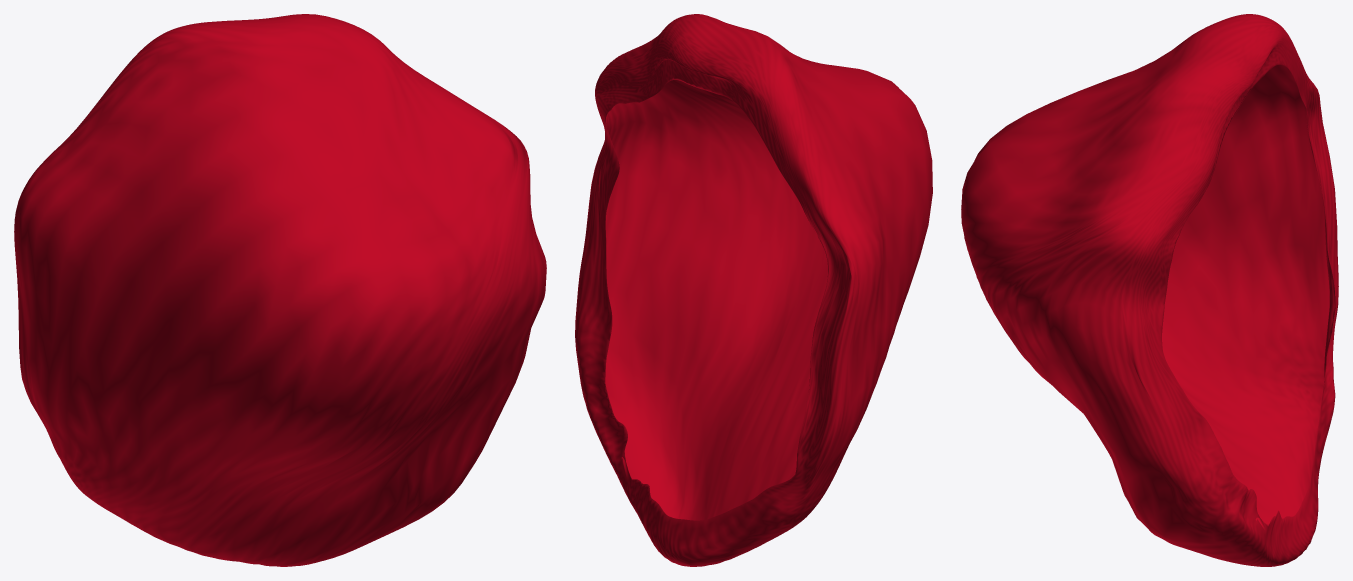
The model's file is EDJCaries_4_OC.glb.
3 views of the same model, side by side, from view 1: azimuth 30°, elevation 25°; view 2: azimuth 150°, elevation 25°; view 3: azimuth 270°, elevation 25° (orthographic). The views are drawn at different scales.
Visible parts, largest first — view 1: D4 b.001; view 2: D4 b.001; view 3: D4 b.001.
Boxes of the visible parts, x1,y1,x2,y2 form: D4 b.001: [14, 14, 546, 566]; D4 b.001: [575, 14, 932, 566]; D4 b.001: [961, 14, 1338, 566].
Bounding box in the file's own units: 2.01 × 2.67 × 1.79.
